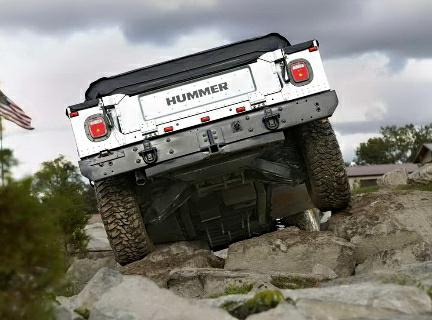红旗-H7: (60, 30, 360, 269)
